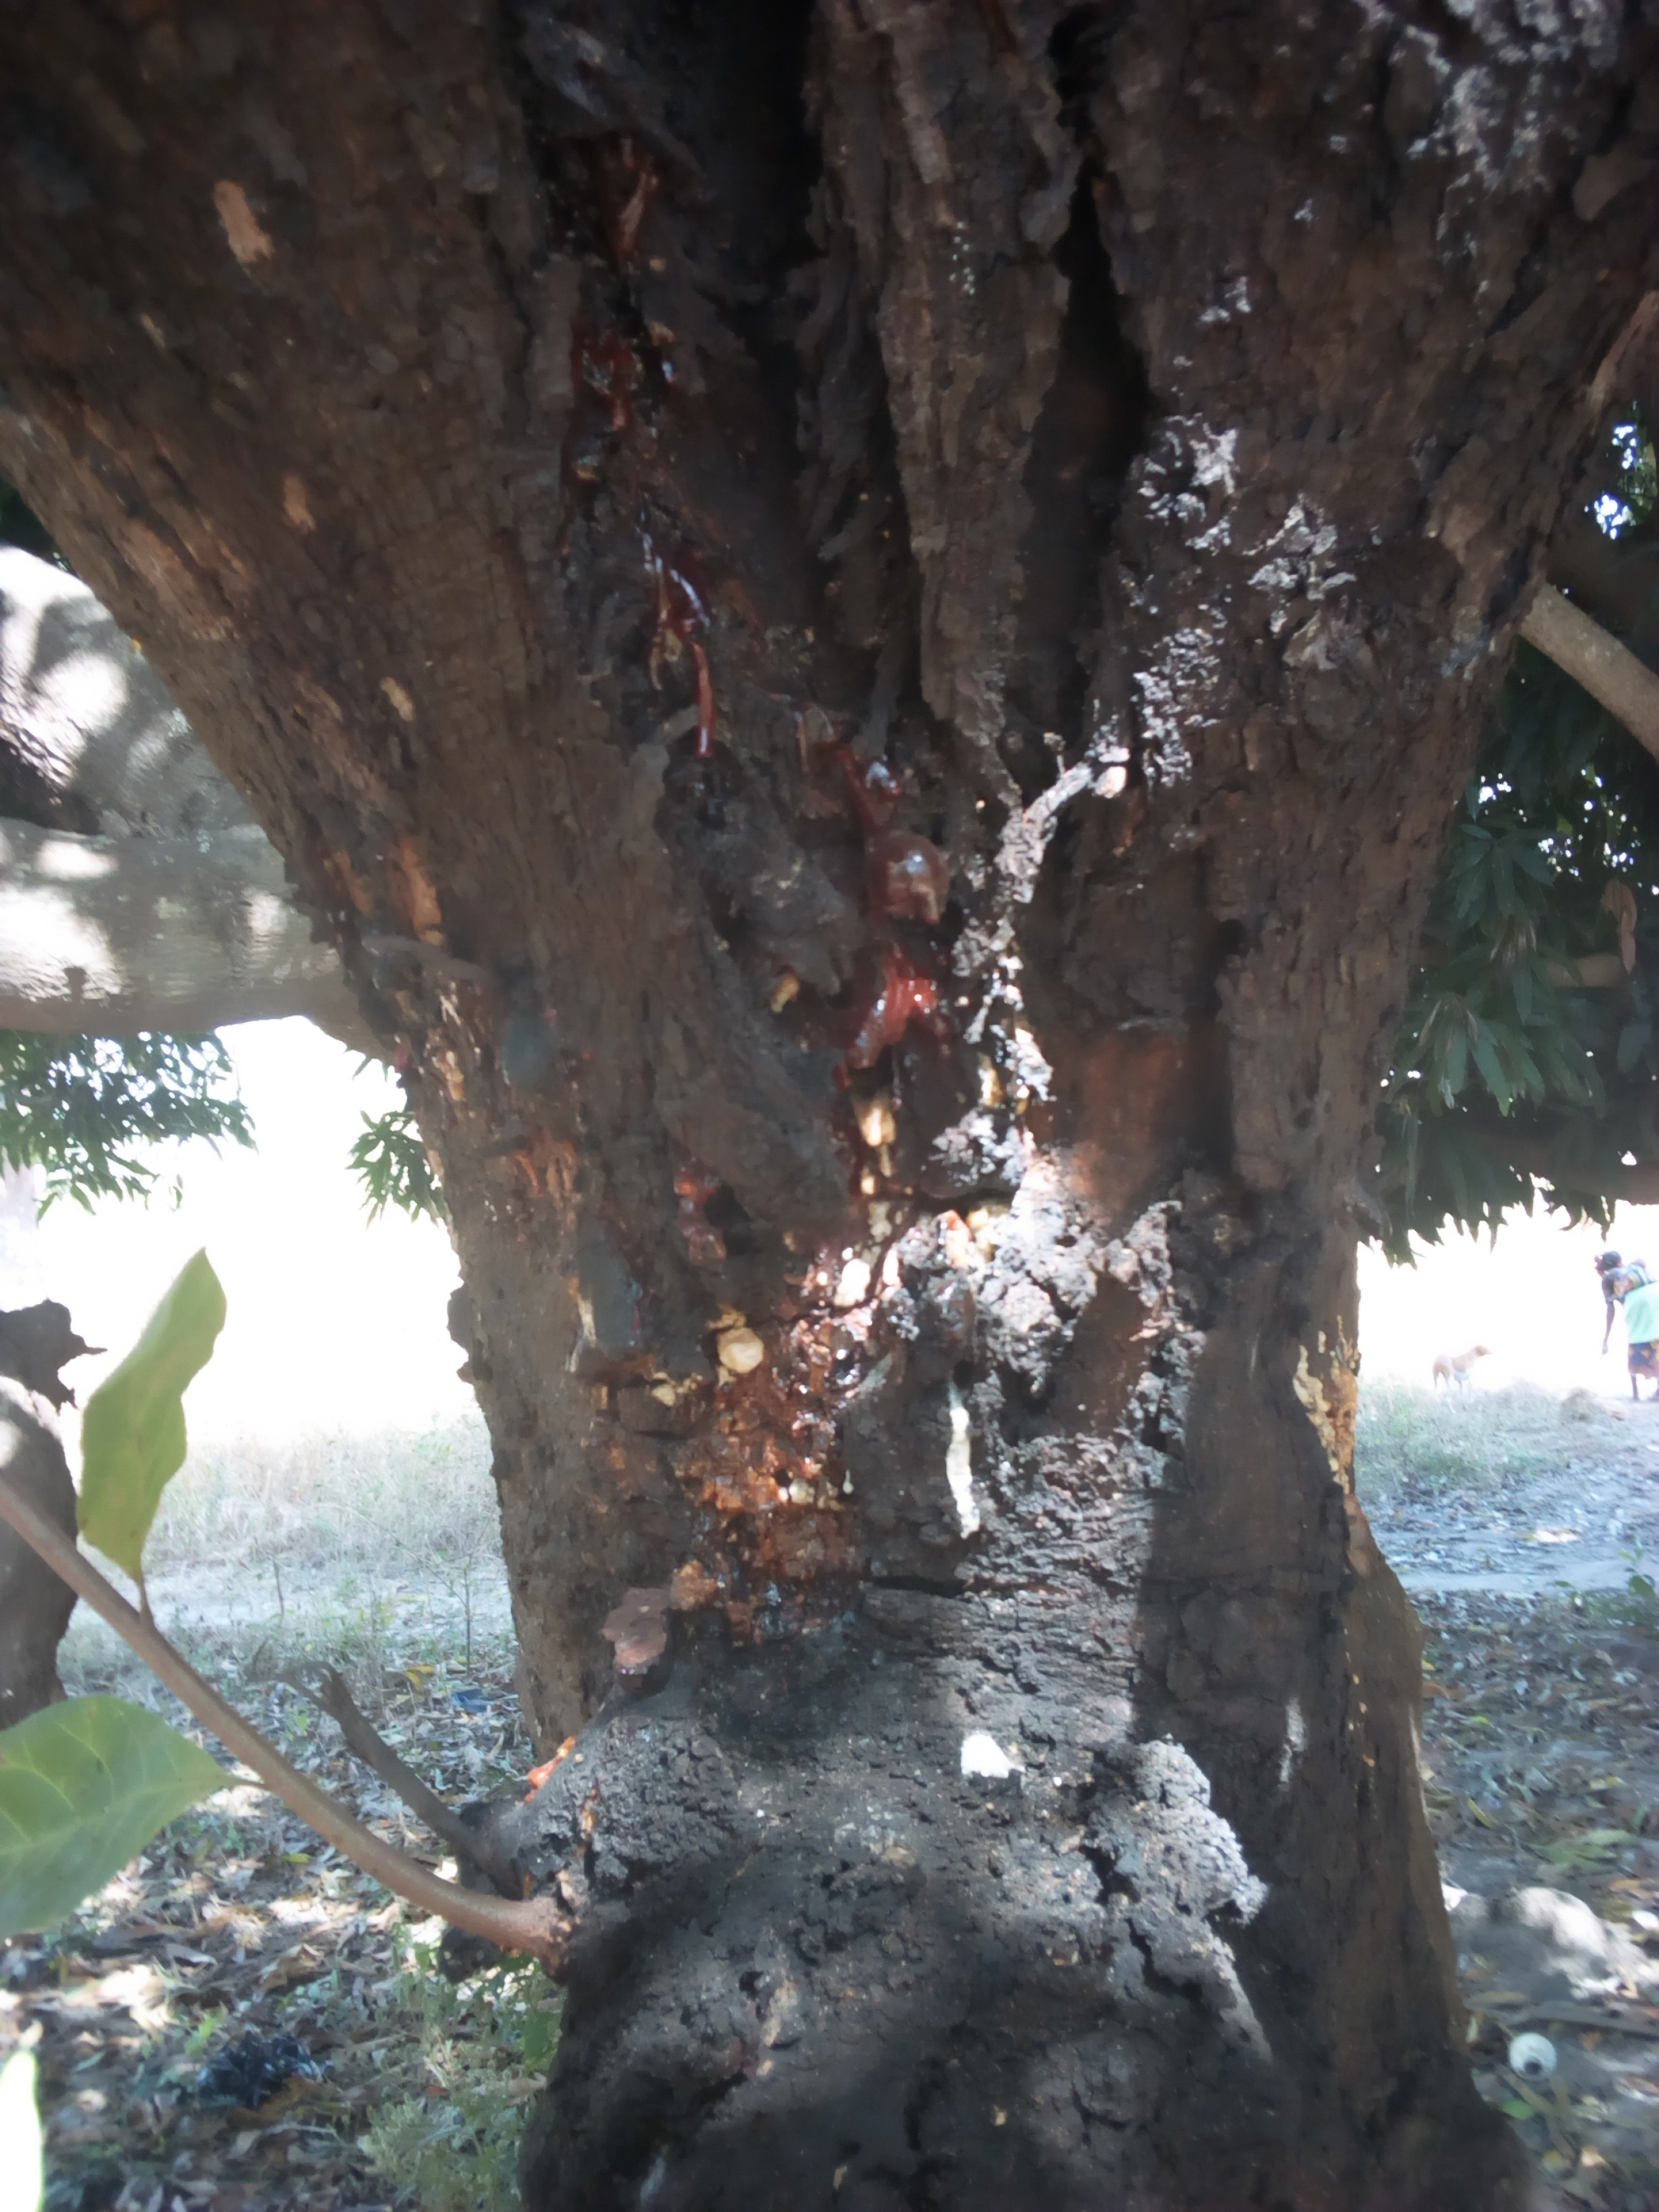Gommose: (481, 42, 775, 754)
